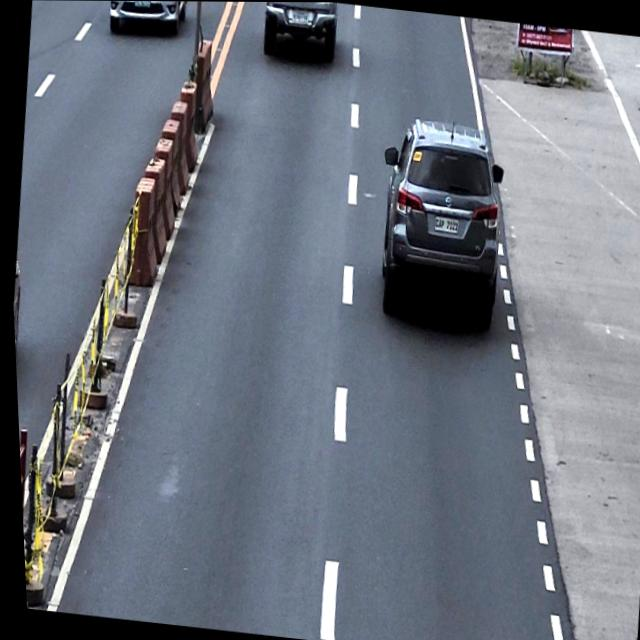Car: (365, 111, 513, 318), (259, 2, 340, 61), (104, 1, 189, 39)
License-Plate: (430, 212, 459, 234), (290, 8, 310, 26), (132, 1, 151, 9)
